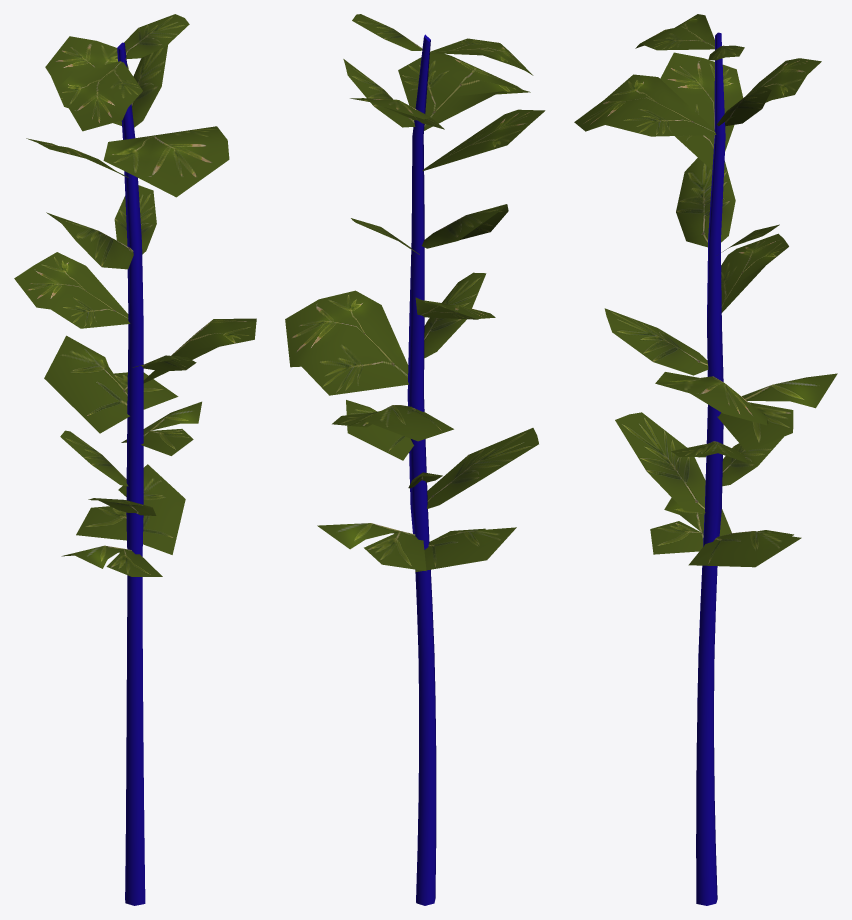
The model's file is Bamboo_D.fbx.
3 renders of one model, left to right at view 1: azimuth 30°, elevation 25°; view 2: azimuth 150°, elevation 25°; view 3: azimuth 270°, elevation 25°, orthographic.
Visible parts, largest first — view 1: Geometry_Bamboo_D_LOD00; view 2: Geometry_Bamboo_D_LOD00; view 3: Geometry_Bamboo_D_LOD00.
Part boxes in pixels (x1=…): Geometry_Bamboo_D_LOD00: x1=14, y1=14, x2=256, y2=905; Geometry_Bamboo_D_LOD00: x1=285, y1=14, x2=545, y2=905; Geometry_Bamboo_D_LOD00: x1=574, y1=14, x2=837, y2=905.
Size of what is drawn, in the model's own units: 118 by 419 by 115.
